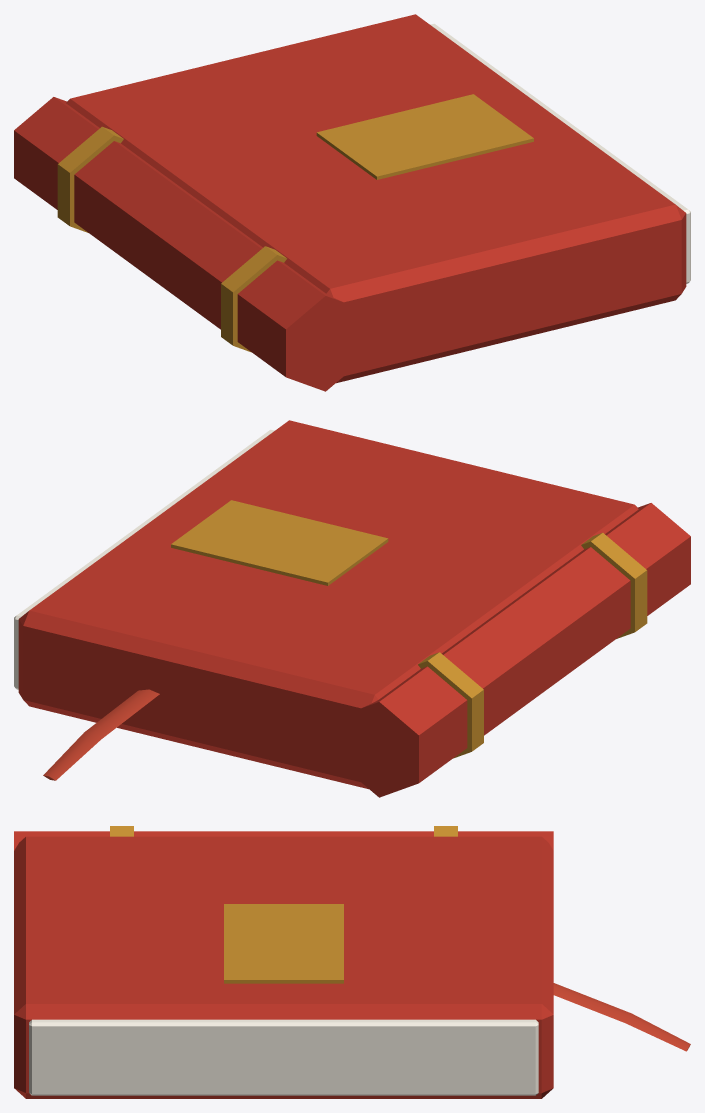
The model's file is Junk_Book.fbx.
3 renders of one model, top to bottom at view 1: azimuth 30°, elevation 25°; view 2: azimuth 150°, elevation 25°; view 3: azimuth 270°, elevation 25°, orthographic.
Visible parts, largest first — view 1: Item; view 2: Item; view 3: Item.
Part boxes in pixels (bbox=[...]): Item: bbox=[14, 14, 690, 391]; Item: bbox=[14, 420, 690, 797]; Item: bbox=[14, 826, 690, 1098].
Size of the model in its own units: 0.3198 by 0.078 by 0.4515.
